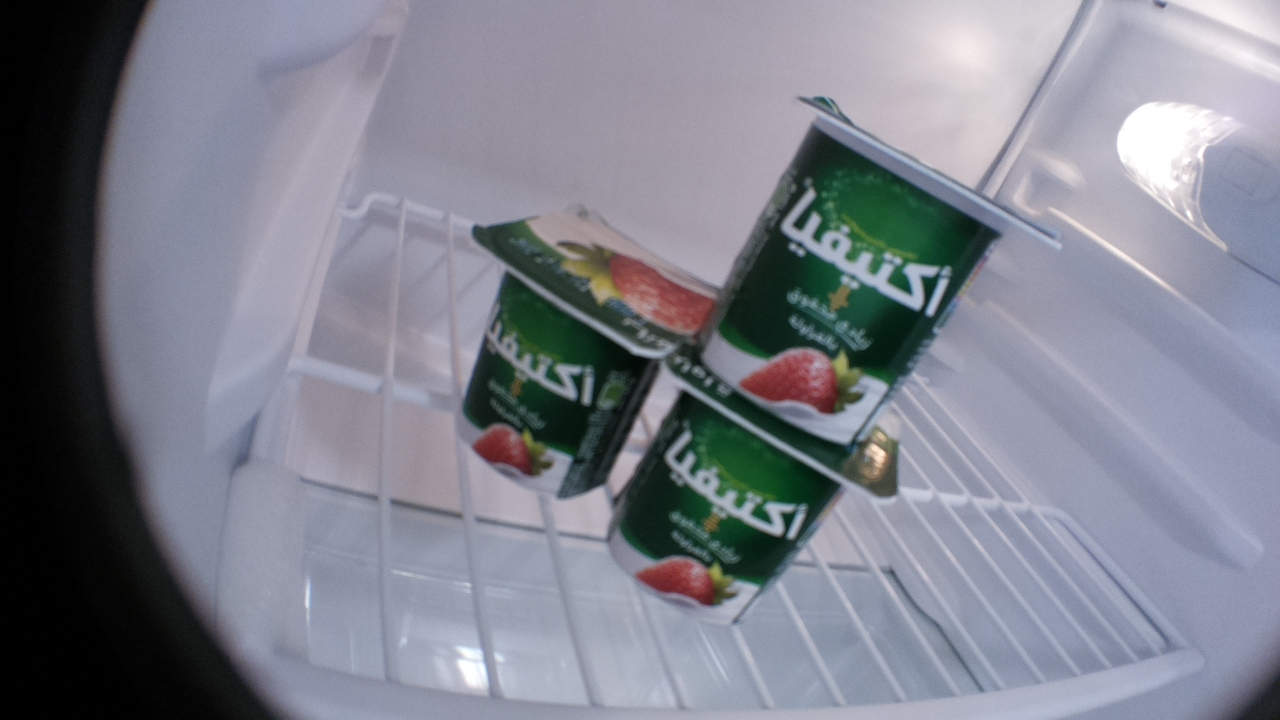yoghurt: (692, 95, 1058, 446), (607, 342, 905, 625), (451, 206, 719, 500)
